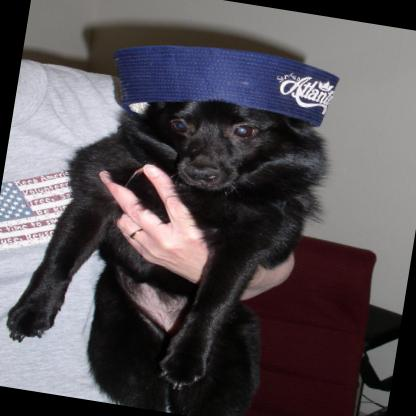schipperke: (2, 8, 338, 416)
